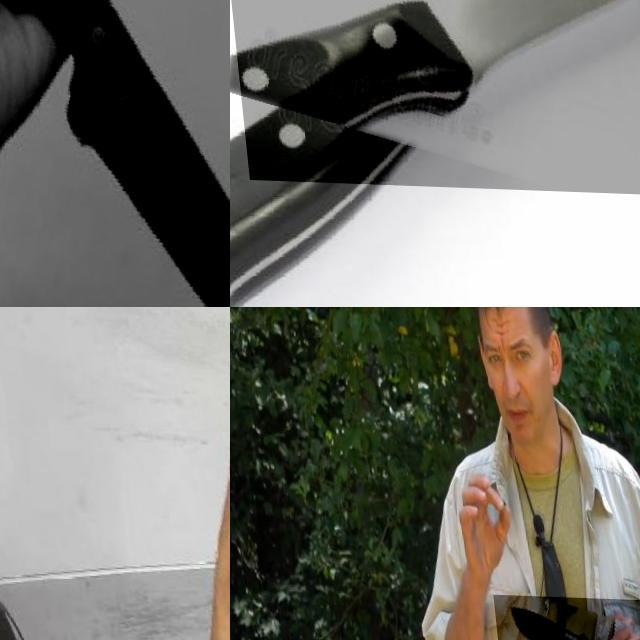-: (230, 0, 640, 196), (0, 0, 230, 307), (485, 592, 640, 640)
